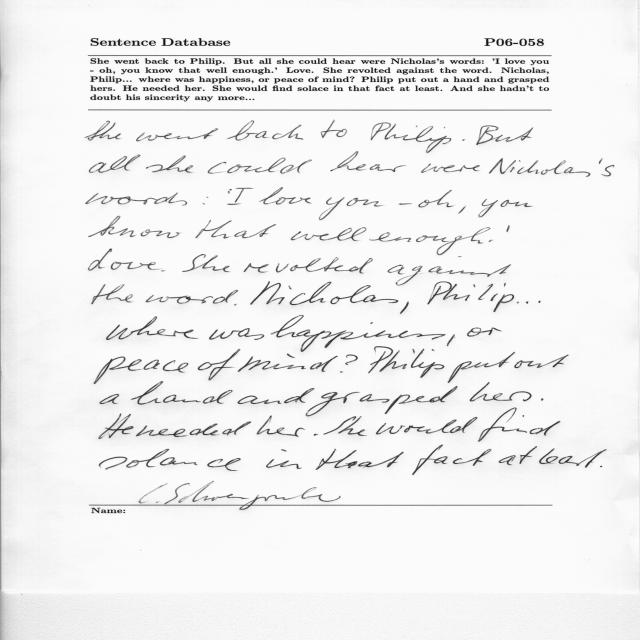word: (271, 315, 446, 352), (306, 386, 458, 416), (388, 256, 511, 286), (369, 228, 491, 256), (251, 282, 399, 305), (100, 449, 241, 471), (478, 408, 560, 442), (94, 356, 188, 384), (86, 193, 187, 219), (427, 282, 514, 312), (371, 122, 451, 153), (368, 346, 444, 378), (489, 158, 614, 177), (412, 445, 491, 475), (131, 382, 233, 405), (244, 257, 373, 274), (107, 316, 198, 340), (448, 352, 515, 383), (238, 353, 338, 372), (316, 449, 404, 470), (136, 421, 251, 437), (376, 417, 477, 434), (208, 158, 312, 174), (89, 220, 180, 238), (330, 151, 405, 172), (89, 249, 159, 271), (228, 121, 304, 141), (319, 197, 383, 220), (195, 220, 276, 238), (539, 448, 607, 468), (198, 349, 240, 381), (146, 290, 238, 304), (238, 388, 315, 404), (470, 382, 532, 401), (476, 125, 533, 145), (136, 128, 218, 141), (291, 227, 367, 241), (257, 415, 305, 437), (478, 199, 532, 217), (90, 154, 141, 173), (259, 188, 312, 205), (99, 413, 133, 439), (182, 254, 230, 272), (324, 416, 367, 436), (146, 155, 193, 173), (92, 285, 133, 305), (499, 446, 537, 465), (85, 121, 121, 141), (266, 449, 302, 469), (514, 355, 569, 368), (209, 328, 264, 340), (418, 190, 454, 207), (421, 163, 480, 173), (321, 120, 347, 138), (227, 188, 253, 205), (340, 355, 358, 373), (467, 328, 502, 337), (100, 394, 119, 404), (400, 301, 409, 314), (447, 335, 455, 347), (517, 301, 541, 304), (458, 206, 466, 214), (203, 197, 208, 205), (398, 203, 412, 205), (506, 226, 510, 233), (228, 189, 232, 193), (541, 398, 544, 401), (489, 240, 493, 242), (161, 270, 165, 272), (314, 434, 318, 436), (462, 139, 465, 141), (234, 304, 237, 305), (600, 466, 602, 467)
